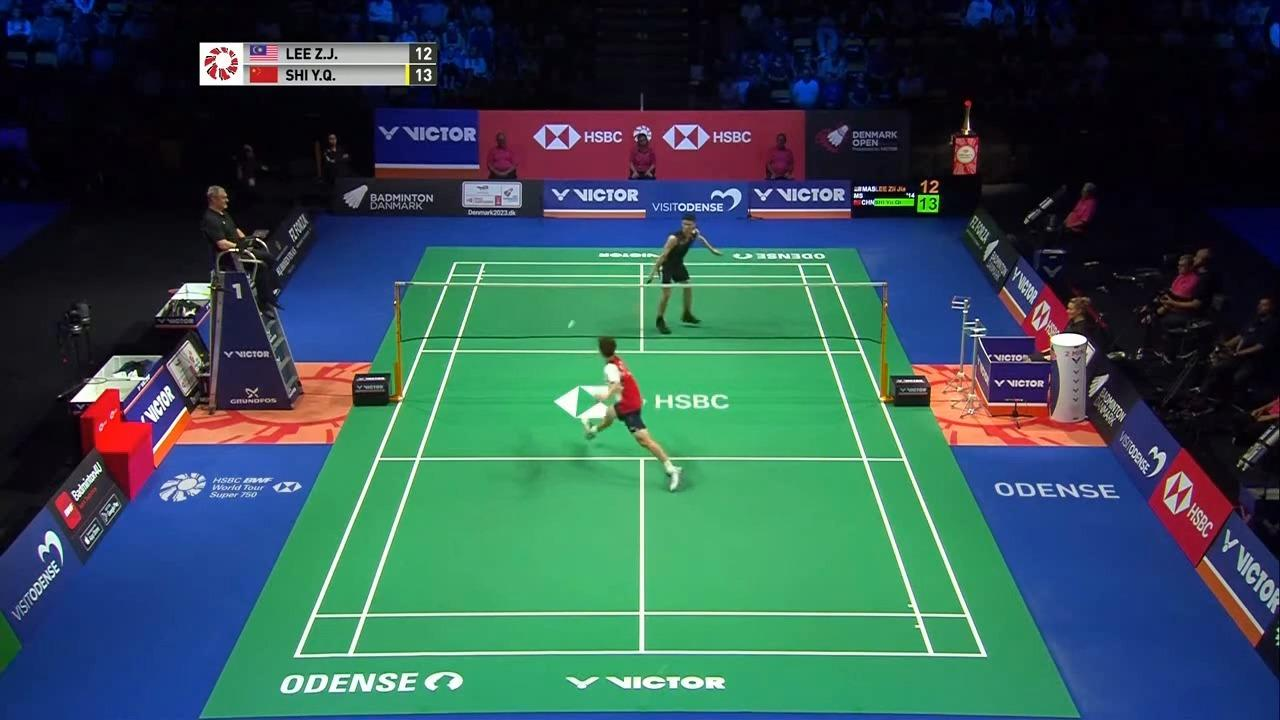shuttle: (563, 319, 579, 331)
